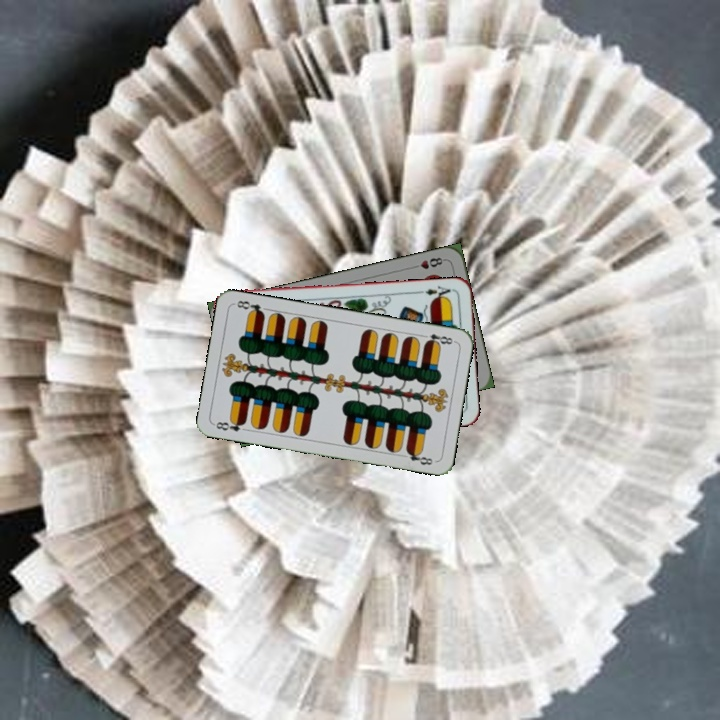E8: (211, 415, 249, 434), (417, 330, 457, 348)
EA: (416, 282, 456, 302)
H8: (408, 253, 448, 272)
